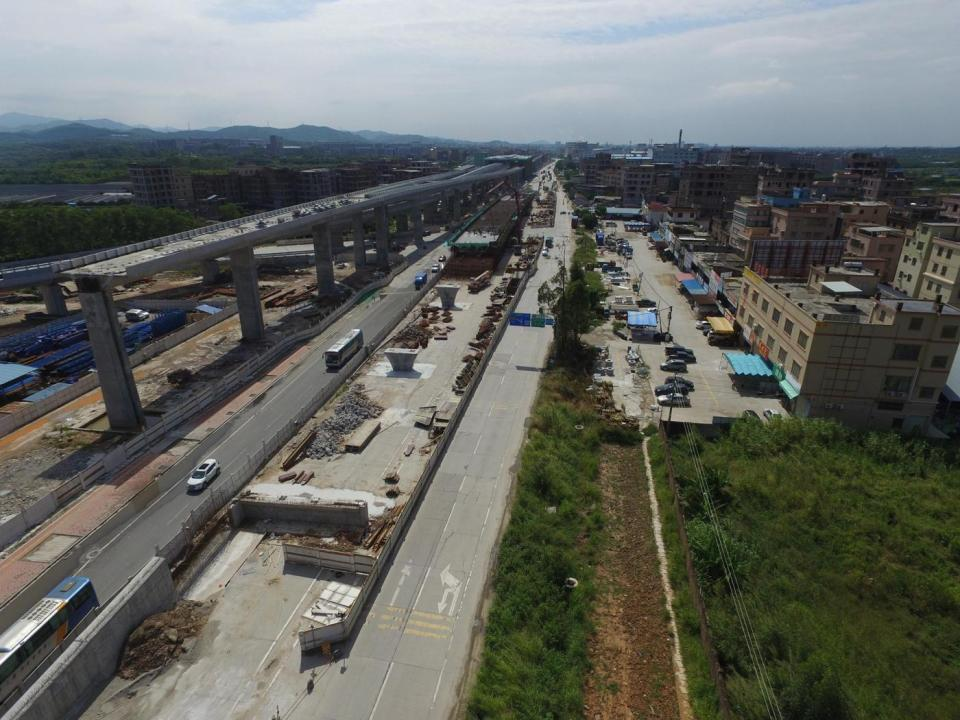bus: (1, 577, 101, 718), (322, 328, 363, 369)
car: (187, 459, 222, 493), (664, 376, 694, 390), (657, 393, 690, 405), (655, 383, 688, 395), (665, 351, 695, 363), (763, 408, 783, 426), (740, 410, 760, 428), (660, 360, 687, 372), (708, 330, 730, 342), (664, 346, 694, 354), (703, 327, 725, 337), (695, 321, 719, 330), (130, 309, 148, 318), (645, 307, 658, 318), (649, 244, 661, 250), (431, 264, 439, 272), (439, 254, 446, 262), (543, 246, 548, 252), (542, 250, 548, 255)
truck: (615, 310, 641, 321), (635, 298, 656, 308), (602, 264, 623, 273), (415, 273, 426, 290), (594, 258, 616, 266), (595, 232, 605, 245), (571, 216, 579, 229), (514, 245, 521, 256), (546, 236, 552, 247)
van: (126, 310, 144, 322), (606, 221, 618, 227), (648, 236, 657, 242), (642, 231, 646, 236)
